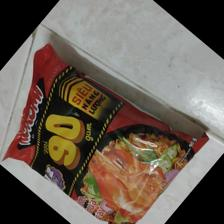Kokomi: (3, 46, 205, 224)
